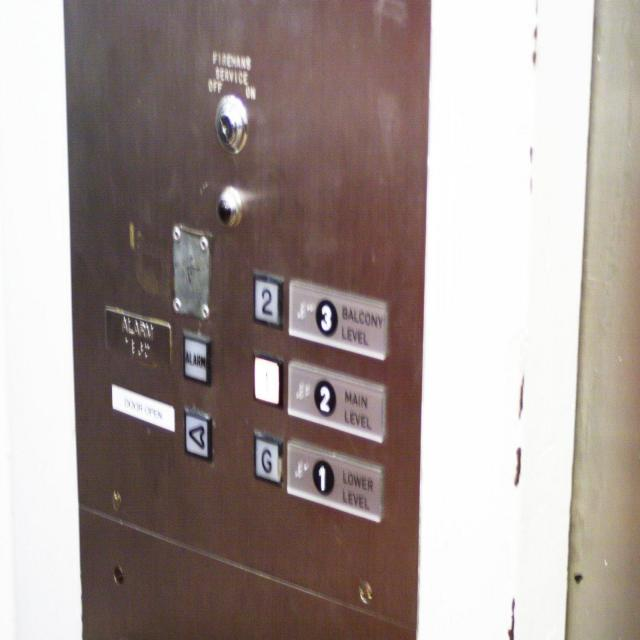1: (282, 430, 386, 534), (252, 346, 284, 416)
2: (287, 354, 388, 455), (247, 262, 286, 337)
3: (287, 279, 391, 359)
G: (250, 424, 286, 496)
indicator: (212, 89, 251, 159), (215, 180, 246, 236)
text: (102, 298, 173, 382), (180, 331, 217, 391)
unknown: (180, 400, 214, 465)
